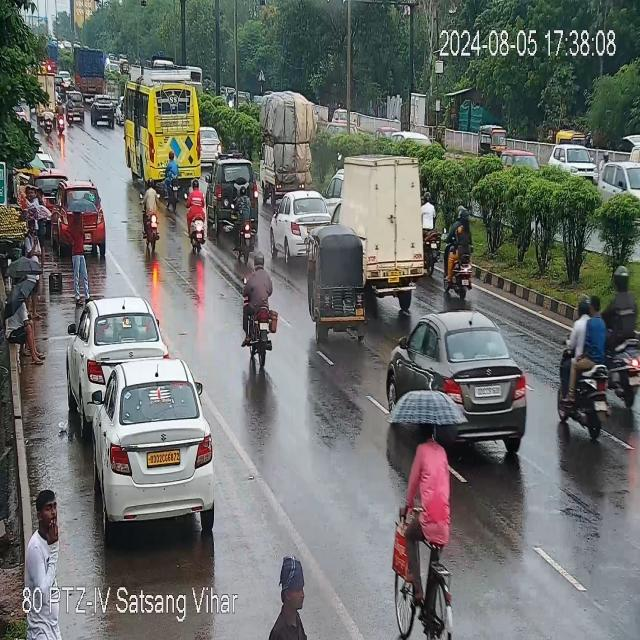2-wheelers: (559, 290, 637, 430), (412, 424, 454, 550), (208, 158, 261, 244), (240, 258, 280, 369), (440, 206, 484, 298), (160, 154, 192, 207), (188, 187, 210, 256)
auto: (307, 227, 373, 336), (27, 72, 57, 129), (480, 127, 512, 160)
bus: (121, 68, 211, 188)
car: (79, 362, 218, 532), (388, 321, 534, 445), (75, 298, 165, 394), (271, 190, 337, 255), (57, 183, 106, 247), (547, 143, 597, 194), (603, 157, 640, 211), (62, 84, 88, 125), (89, 94, 120, 127), (201, 125, 221, 162)
pedestrian: (260, 553, 319, 640), (25, 492, 67, 592), (67, 198, 97, 303), (7, 294, 46, 362)
truck: (328, 151, 438, 299), (258, 85, 317, 188), (74, 42, 110, 101)
